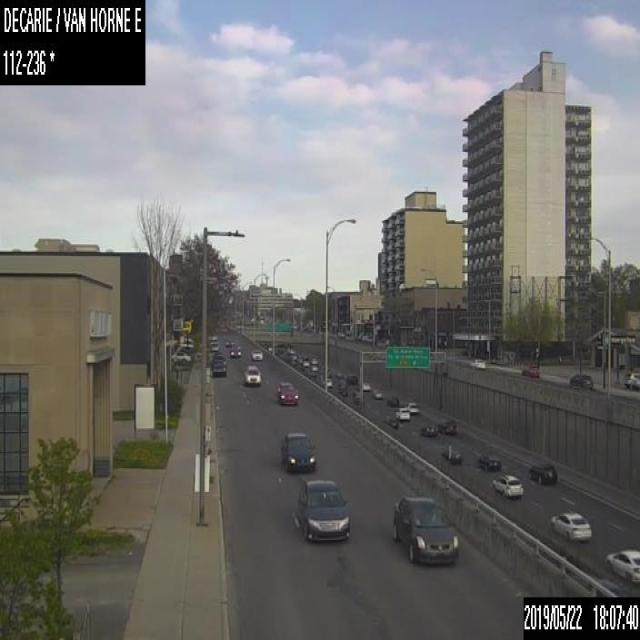vehicle: (390, 494, 457, 566), (296, 476, 348, 541), (280, 429, 315, 474), (549, 508, 592, 541), (603, 547, 639, 584), (491, 472, 524, 497), (528, 458, 556, 482), (276, 381, 298, 404), (477, 452, 501, 471), (243, 362, 261, 387), (440, 445, 462, 464), (568, 372, 592, 386), (437, 418, 456, 434), (394, 406, 410, 421), (624, 371, 639, 387), (212, 359, 226, 376), (420, 423, 437, 436), (521, 366, 539, 378), (171, 351, 190, 361), (352, 388, 363, 404), (383, 416, 398, 427), (469, 357, 485, 367), (250, 348, 263, 360), (405, 400, 418, 412), (386, 394, 398, 405), (214, 353, 225, 364), (345, 373, 357, 383), (372, 388, 382, 398), (230, 346, 240, 356), (209, 342, 218, 351), (362, 381, 370, 390), (209, 335, 218, 343), (225, 338, 233, 346), (310, 363, 317, 371), (310, 356, 317, 364), (302, 359, 309, 367), (326, 377, 332, 386), (336, 372, 342, 378)
